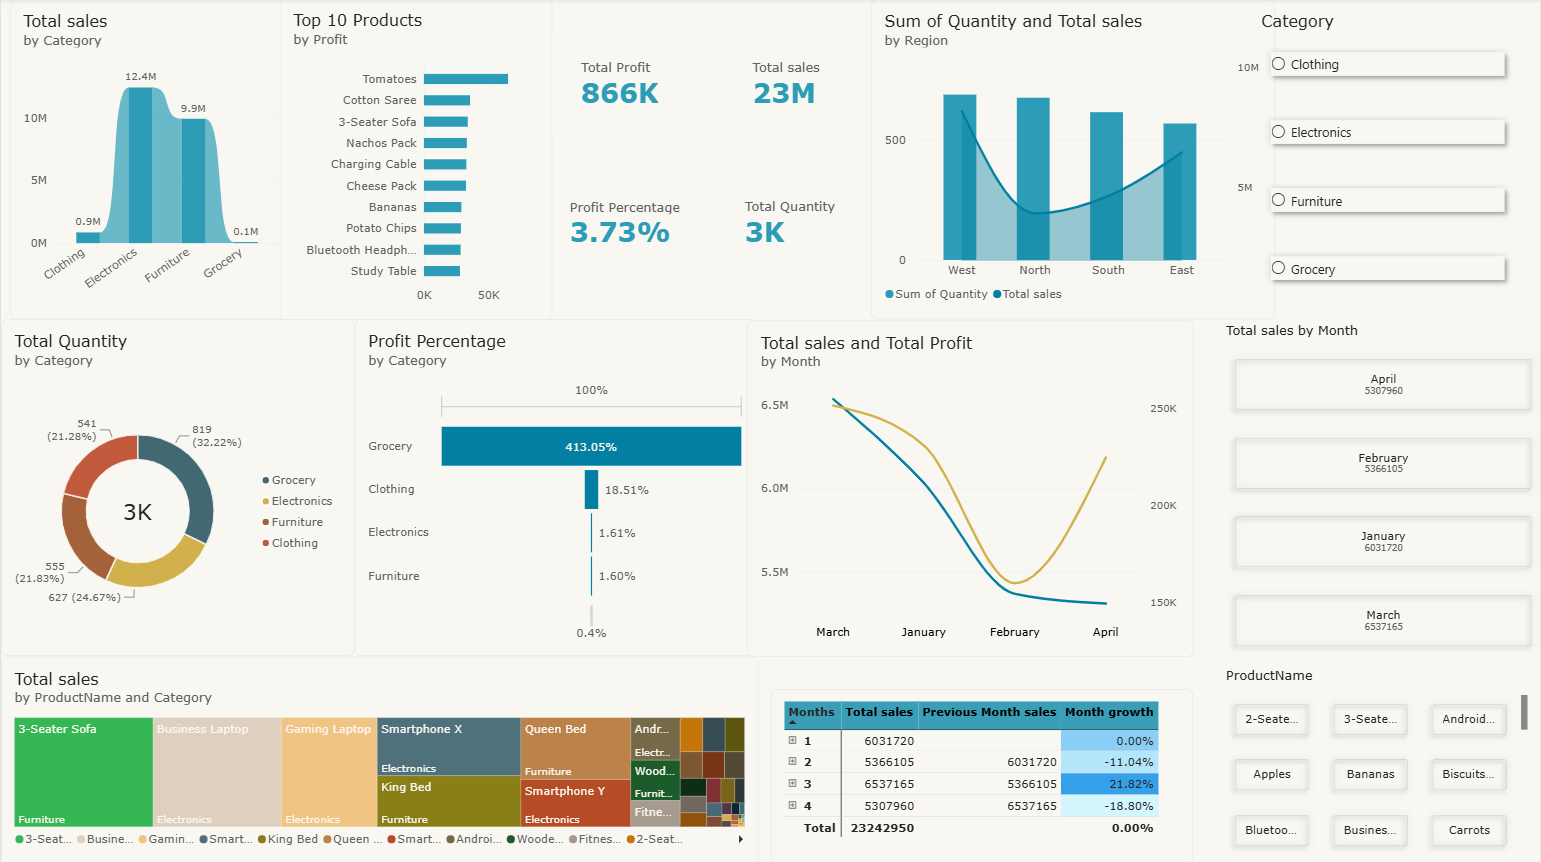

This screenshot's page, from the dashboard's own definition file:
{"tool":"powerbi","page":{"name":"Page 1","canvas":[1920,1080],"ordinal":0},"visuals":[{"type":"cardVisual","title":"Total sales","fields":{"Data":["FactSales.Total sales"]},"box":[901.5,32.9,172.9,150.3],"z":0},{"type":"cardVisual","fields":{"Data":["FactSales.Profit Percentage"]},"box":[673.1,185.2,214.1,193.5],"z":1000},{"type":"cardVisual","fields":{"Data":["FactSales.Total Quantity"]},"box":[891.3,183.2,193.5,195.5],"z":2000},{"type":"donutChart","fields":{"Category":["DimProduct.Category"],"Y":["FactSales.Total Quantity"]},"box":[0,401.4,440.5,419.9],"z":3000},{"type":"columnChart","fields":{"Category":["DimProduct.Category","DimProduct.ProductName"],"Y":["FactSales.Total sales"]},"box":[10.3,2.1,356.1,399.3],"z":4000},{"type":"clusteredBarChart","fields":{"Category":["DimProduct.ProductName"],"Y":["Sum(FactSales.Profit)"]},"box":[347.9,0,339.6,401.4],"z":5000},{"type":"treemap","fields":{"Details":["DimProduct.Category"],"Group":["DimProduct.ProductName"],"Values":["FactSales.Total sales"]},"box":[0,821.3,944.8,259.3],"z":6000},{"type":"lineStackedColumnComboChart","fields":{"Category":["FactSales.Region"],"Y":["Sum(FactSales.Quantity)"],"Y2":["FactSales.Total sales"]},"box":[1084.7,2.1,504.3,399.3],"z":7000},{"type":"advancedSlicerVisual","fields":{"Label":["FactSales.Total sales"],"Values":["DateTable.Month"]},"box":[1527,403.4,393.4,417.6],"z":8000},{"type":"funnel","fields":{"Category":["DimProduct.Category","DimProduct.ProductName"],"Y":["FactSales.Profit Percentage"]},"box":[440.5,401.4,504.3,419.9],"z":9000},{"type":"cardVisual","fields":{"Data":["FactSales.Total Profit"]},"box":[687.5,32.9,185.2,150.3],"z":10000},{"type":"listSlicer","fields":{"Values":["DimProduct.Category"]},"box":[1556.1,2.1,347.9,401.4],"z":11000},{"type":"lineChart","fields":{"Category":["DateTable.Month"],"Y":["FactSales.Total sales"],"Y2":["FactSales.Total Profit"]},"box":[929.9,401.4,556.8,419.6],"z":13000},{"type":"pivotTable","fields":{"Rows":["DateTable.Months","DateTable.Month","DimProduct.Category"],"Values":["FactSales.Total sales","FactSales.Previous Month sales","FactSales.Month growth"]},"box":[960.2,861.4,526.5,217.9],"z":13001},{"type":"advancedSlicerVisual","fields":{"Values":["DimProduct.ProductName"]},"box":[1528,834,376,235],"z":13002}]}

Visuals, with their boxes in screenshot pixels (x1, y1, x2, y2), scaled from the page's 1920x1080 canvas onto the 1541x862 screenshot:
"Total sales" cardVisual: bbox=(724, 26, 862, 146)
cardVisual - FactSales.Profit Percentage: bbox=(540, 148, 712, 302)
cardVisual - FactSales.Total Quantity: bbox=(715, 146, 871, 302)
donutChart - DimProduct.Category x FactSales.Total Quantity: bbox=(0, 320, 354, 656)
columnChart - DimProduct.Category x DimProduct.ProductName: bbox=(8, 2, 294, 320)
clusteredBarChart - DimProduct.ProductName x Sum(FactSales.Profit): bbox=(279, 0, 552, 320)
treemap - DimProduct.Category x DimProduct.ProductName: bbox=(0, 656, 758, 861)
lineStackedColumnComboChart - FactSales.Region x Sum(FactSales.Quantity): bbox=(871, 2, 1275, 320)
advancedSlicerVisual - FactSales.Total sales x DateTable.Month: bbox=(1226, 322, 1540, 655)
funnel - DimProduct.Category x DimProduct.ProductName: bbox=(354, 320, 758, 656)
cardVisual - FactSales.Total Profit: bbox=(552, 26, 700, 146)
listSlicer - DimProduct.Category: bbox=(1249, 2, 1528, 322)
lineChart - DateTable.Month x FactSales.Total sales: bbox=(746, 320, 1193, 655)
pivotTable - DateTable.Months x DateTable.Month: bbox=(771, 688, 1193, 861)
advancedSlicerVisual - DimProduct.ProductName: bbox=(1226, 666, 1528, 853)
